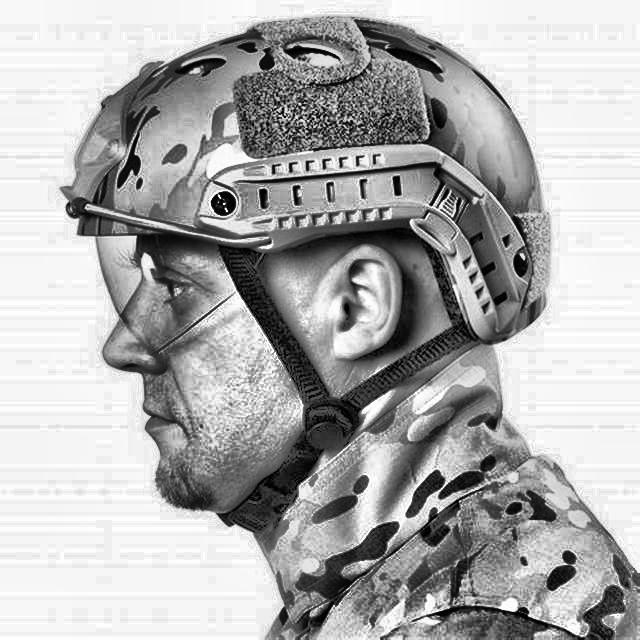Helmet: (54, 4, 564, 538)
